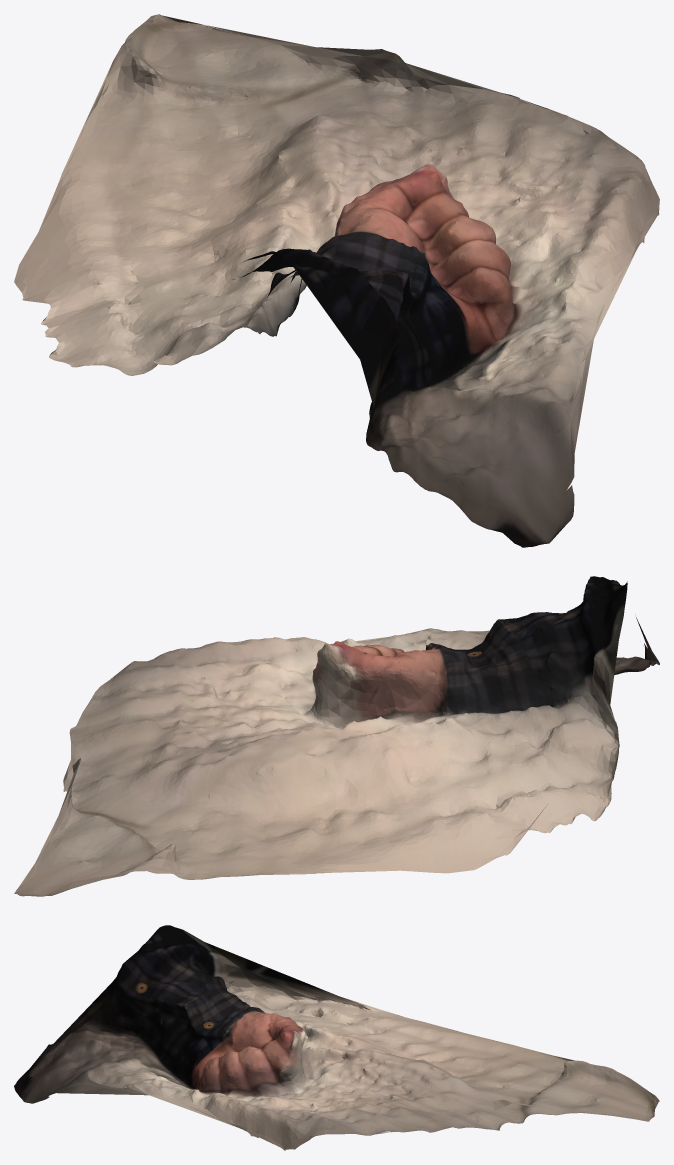
The model's file is 2026-10-07-mano-izq-puno.glb.
The picture shows the model from 3 angles, top to bottom: view 1: azimuth 30°, elevation 25°; view 2: azimuth 150°, elevation 25°; view 3: azimuth 270°, elevation 25°; orthographic projection. The views are drawn at different scales.
Visible parts, largest first — view 1: mesh; view 2: mesh; view 3: mesh.
Boxes of the visible parts, x1,y1,x2,y2 form: mesh: [14, 14, 659, 547]; mesh: [14, 576, 659, 896]; mesh: [14, 925, 659, 1150].
Size of the model in its own units: 0.383 by 0.1461 by 0.6317.
1 material, 1 textured.
